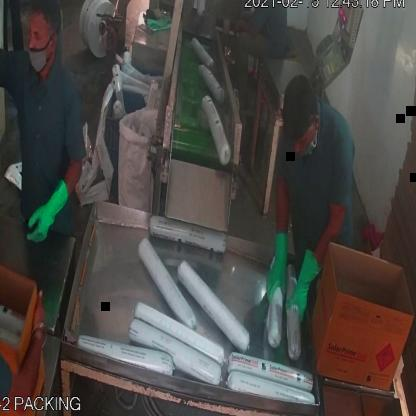glove: (27, 171, 72, 249), (289, 242, 316, 334), (266, 222, 293, 312)
no_glove: (227, 19, 260, 44)
